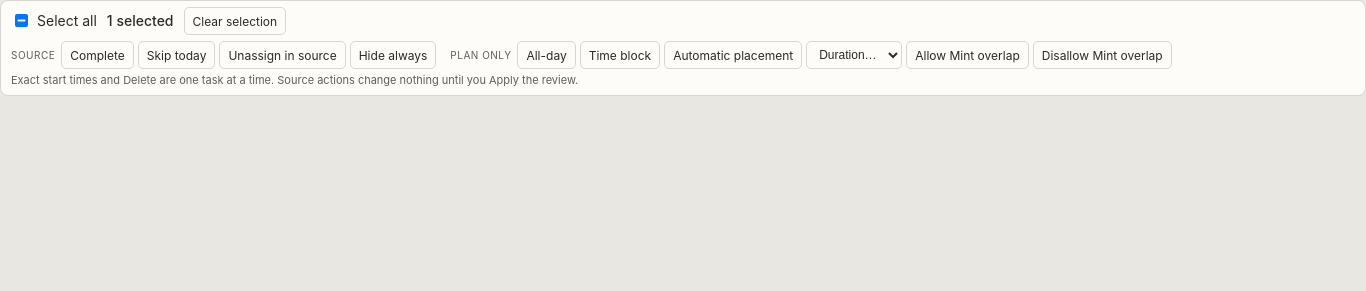
it: source-changing review › honors the Day Setup gate for Skip today as a written reason
The image size is (1366, 291).
Click the button "Skip today": [177, 55] box [138, 41, 215, 69]
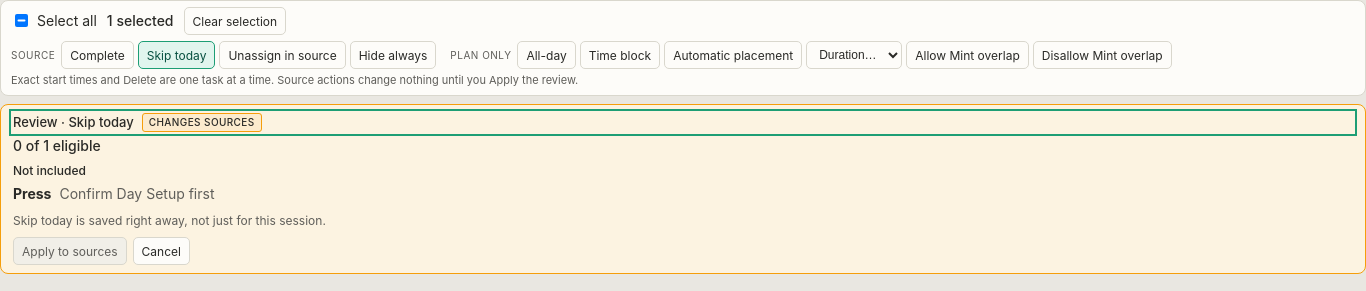
Now the list with test id "batch-excluded" shows "Confirm Day Setup first", box [60, 186, 214, 202]
Now the button "Apply to sources" is disabled, box [13, 237, 127, 265]
